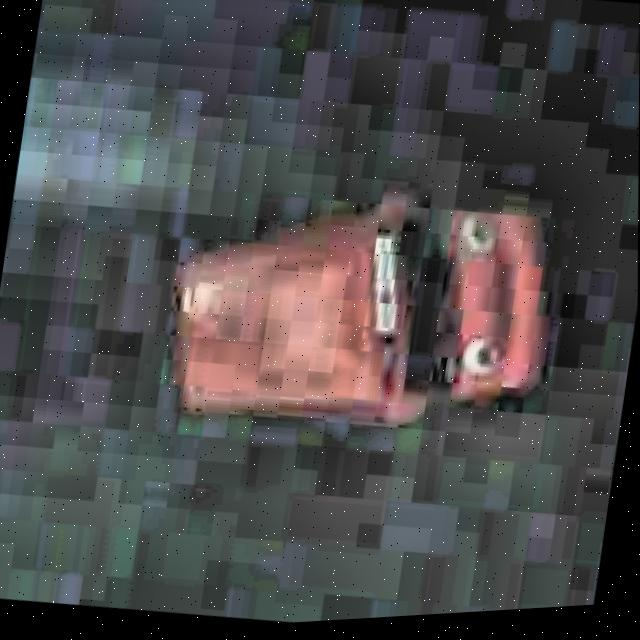bus: (132, 130, 593, 491)
